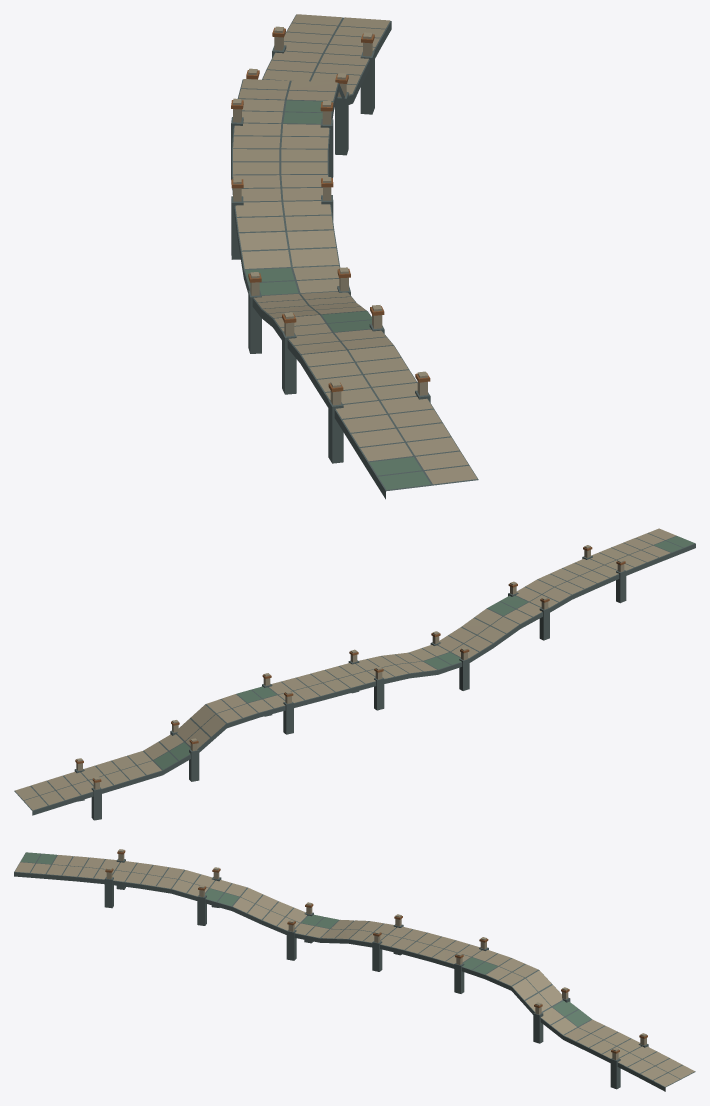
Rendered from 1_orchard_pass_1.glb.
3 views of the same model, one above another, from view 1: azimuth 30°, elevation 25°; view 2: azimuth 150°, elevation 25°; view 3: azimuth 270°, elevation 25° (orthographic). The views are drawn at different scales.
Parts seen in each view (by area): view 1: Detail_8_13, Detail_8_14, Deck_8_13-col, Deck_8_14-col; view 2: Detail_8_13, Detail_8_14, Deck_8_13-col, Deck_8_14-col; view 3: Detail_8_13, Detail_8_14, Deck_8_13-col, Deck_8_14-col.
Boxes of the visible parts, x1,y1,x2,y2 form: Detail_8_13: (231, 14, 391, 353); Detail_8_14: (252, 297, 477, 499); Deck_8_13-col: (232, 14, 391, 295); Deck_8_14-col: (253, 293, 478, 491); Detail_8_13: (15, 631, 478, 820); Detail_8_14: (449, 528, 695, 662); Deck_8_13-col: (14, 647, 461, 810); Deck_8_14-col: (438, 533, 695, 658); Detail_8_13: (277, 902, 694, 1091); Detail_8_14: (14, 849, 293, 934); Deck_8_13-col: (295, 916, 695, 1087); Deck_8_14-col: (14, 852, 307, 930).
Size of the model in its own units: 21.43 by 6.9 by 39.21.
